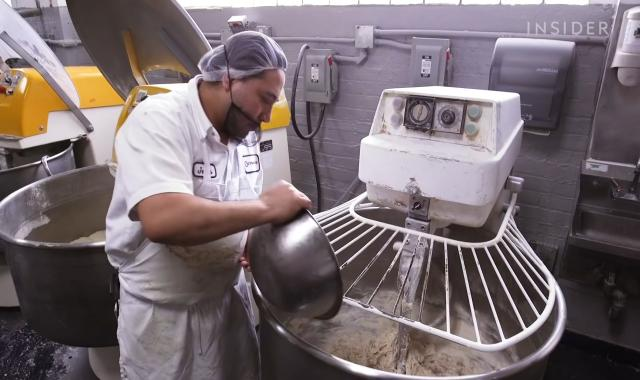hairnet: (200, 32, 288, 80)
